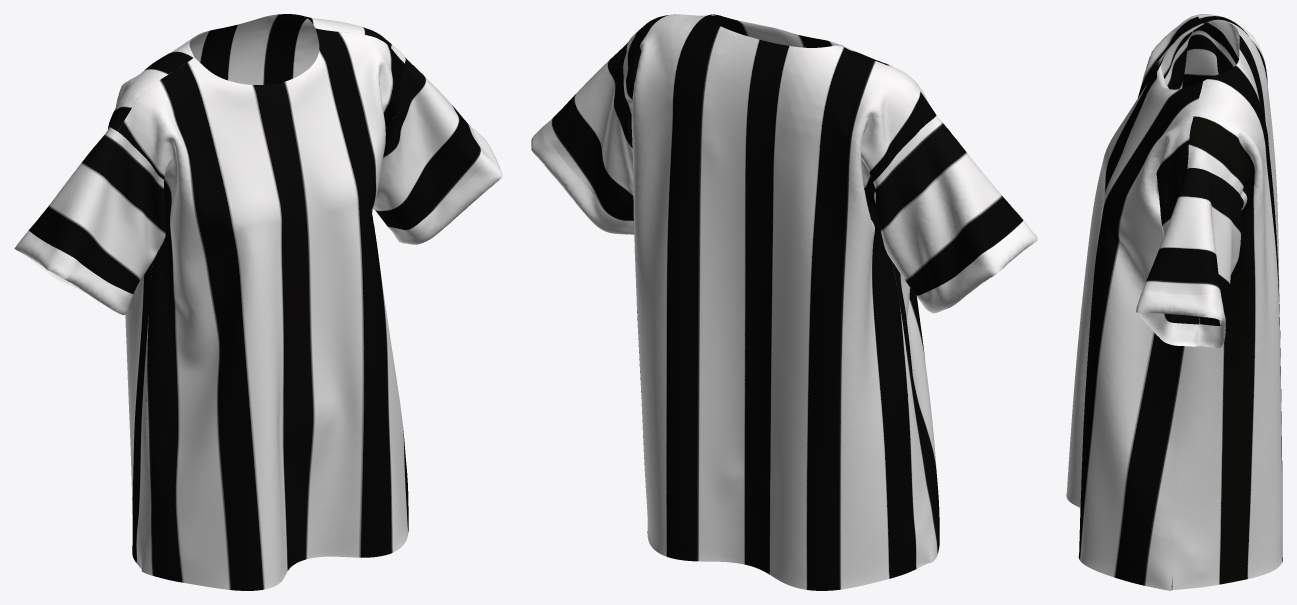
The model's file is tshirt_final2.glb.
3 renders of one model, left to right at view 1: azimuth 30°, elevation 25°; view 2: azimuth 150°, elevation 25°; view 3: azimuth 270°, elevation 25°, orthographic. The views are drawn at different scales.
Parts seen in each view (by area): view 1: 70, 64, 28, 31; view 2: 28, 64, 31, 70; view 3: 70, 28, 31, 64.
Part boxes in pixels (box(x1,y1,x2,y2)): 70: box(118, 28, 408, 590); 64: box(14, 127, 166, 315); 28: box(108, 14, 405, 569); 31: box(374, 57, 502, 244); 28: box(623, 14, 936, 590); 64: box(873, 115, 1037, 313); 31: box(531, 42, 634, 234); 70: box(711, 15, 939, 561); 70: box(1066, 15, 1203, 590); 28: box(1171, 14, 1282, 590); 31: box(1136, 168, 1243, 347); 64: box(1164, 30, 1236, 89).
Size of the model in its own units: 0.6723 by 0.6943 by 0.2806.
1 material, 1 textured.
